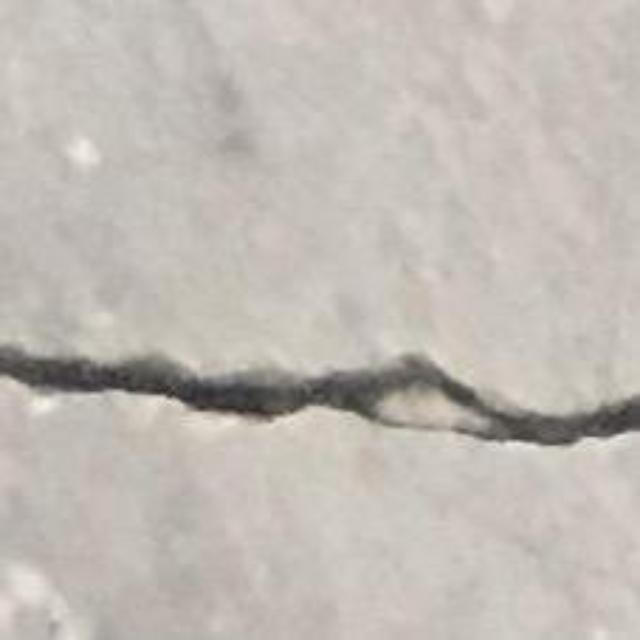crack: (0, 347, 639, 445)
